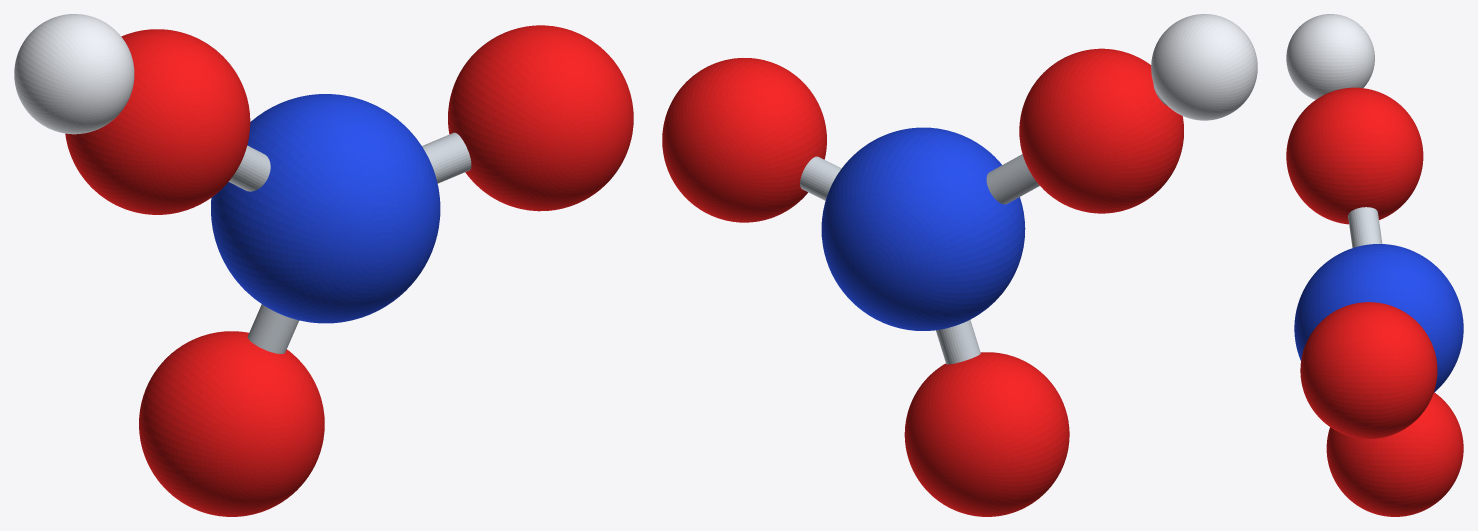
File: nitric_acid.glb
The picture shows the model from 3 angles, left to right: view 1: azimuth 30°, elevation 25°; view 2: azimuth 150°, elevation 25°; view 3: azimuth 270°, elevation 25°; orthographic projection. The views are drawn at different scales.
Visible parts, largest first — view 1: Nitrogen_N, Oxygen_O3, Oxygen_O2, Oxygen_O1_Hydroxyl, Hydrogen_H, N-O_Bond_2, N-O_Bond_3, N-O_Bond_1; view 2: Nitrogen_N, Oxygen_O3, Oxygen_O2, Oxygen_O1_Hydroxyl, Hydrogen_H, N-O_Bond_1, N-O_Bond_3, N-O_Bond_2; view 3: Oxygen_O2, Oxygen_O1_Hydroxyl, Nitrogen_N, Oxygen_O3, Hydrogen_H, N-O_Bond_1.
Part boxes in pixels (box(x1,y1,x2,y2)): Nitrogen_N: box(211, 94, 440, 323); Oxygen_O3: box(139, 331, 324, 516); Oxygen_O2: box(448, 25, 633, 211); Oxygen_O1_Hydroxyl: box(65, 29, 250, 214); Hydrogen_H: box(14, 14, 134, 134); N-O_Bond_2: box(422, 132, 471, 183); N-O_Bond_3: box(247, 304, 299, 353); N-O_Bond_1: box(228, 145, 270, 191); Nitrogen_N: box(821, 127, 1025, 330); Oxygen_O3: box(904, 352, 1069, 516); Oxygen_O2: box(662, 58, 826, 222); Oxygen_O1_Hydroxyl: box(1019, 48, 1183, 213); Hydrogen_H: box(1151, 14, 1257, 120); N-O_Bond_1: box(986, 154, 1039, 204); N-O_Bond_3: box(936, 319, 980, 364); N-O_Bond_2: box(800, 156, 841, 200); Oxygen_O2: box(1300, 302, 1437, 438); Oxygen_O1_Hydroxyl: box(1286, 87, 1423, 224); Nitrogen_N: box(1294, 244, 1463, 392); Oxygen_O3: box(1326, 392, 1463, 516); Hydrogen_H: box(1286, 14, 1374, 99); N-O_Bond_1: box(1348, 207, 1382, 247).
Size of the model in its own units: 2.64 by 2.3 by 0.88.
